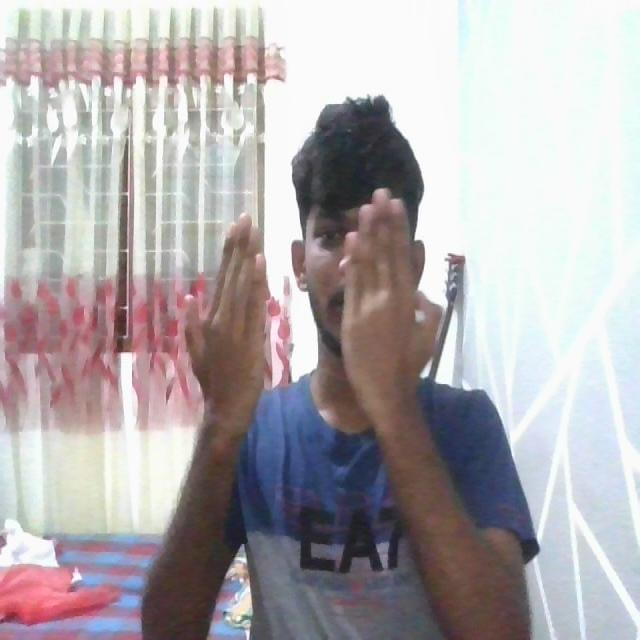ThankYou: (150, 183, 538, 637)
